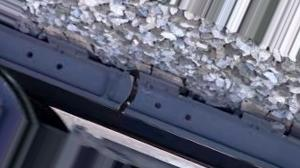tracks_fault: (18, 38, 80, 83), (146, 89, 196, 126)
